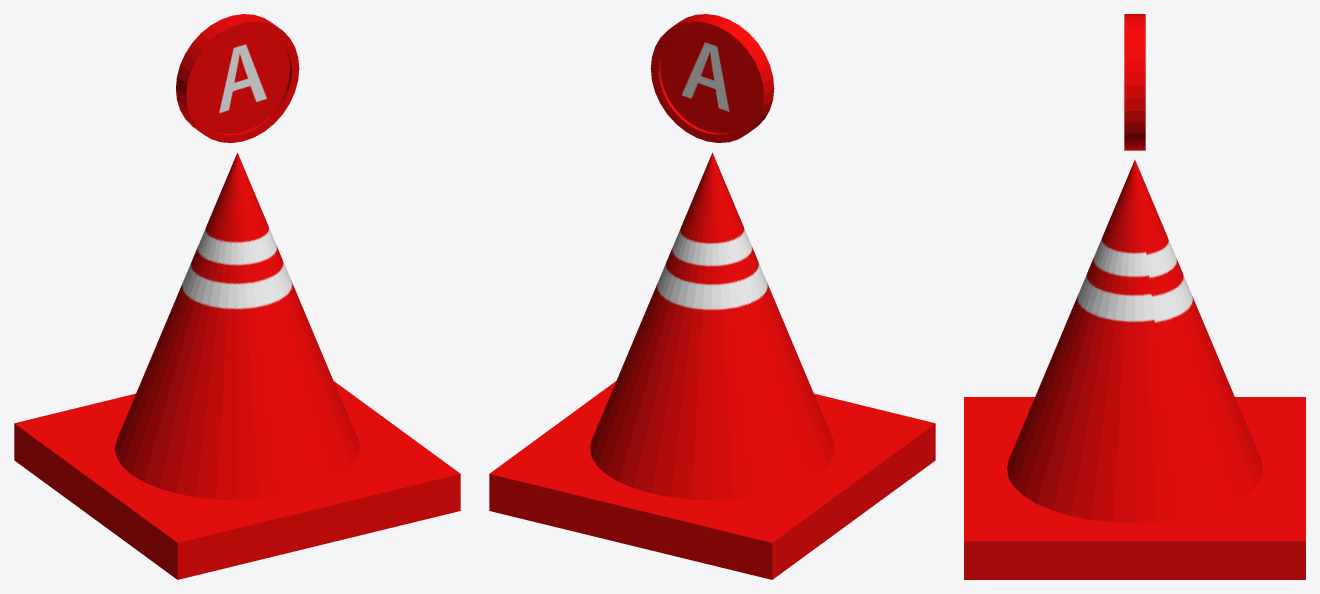
The model's file is cone_with_coin2.dae.
The picture shows the model from 3 angles, left to right: view 1: azimuth 30°, elevation 25°; view 2: azimuth 150°, elevation 25°; view 3: azimuth 270°, elevation 25°; orthographic projection. The views are drawn at different scales.
Parts seen in each view (by area): view 1: Sankaku_Cone, Cylinder; view 2: Sankaku_Cone, Cylinder; view 3: Sankaku_Cone, Cylinder.
Part boxes in pixels (x1=…): Sankaku_Cone: x1=14, y1=152, x2=460, y2=579; Cylinder: x1=176, y1=14, x2=299, y2=142; Sankaku_Cone: x1=489, y1=152, x2=935, y2=579; Cylinder: x1=650, y1=14, x2=774, y2=142; Sankaku_Cone: x1=964, y1=160, x2=1305, y2=579; Cylinder: x1=1124, y1=14, x2=1145, y2=150.
Size of the model in its own units: 0.4 by 0.4 by 0.6296.
2 materials, 2 textured.
